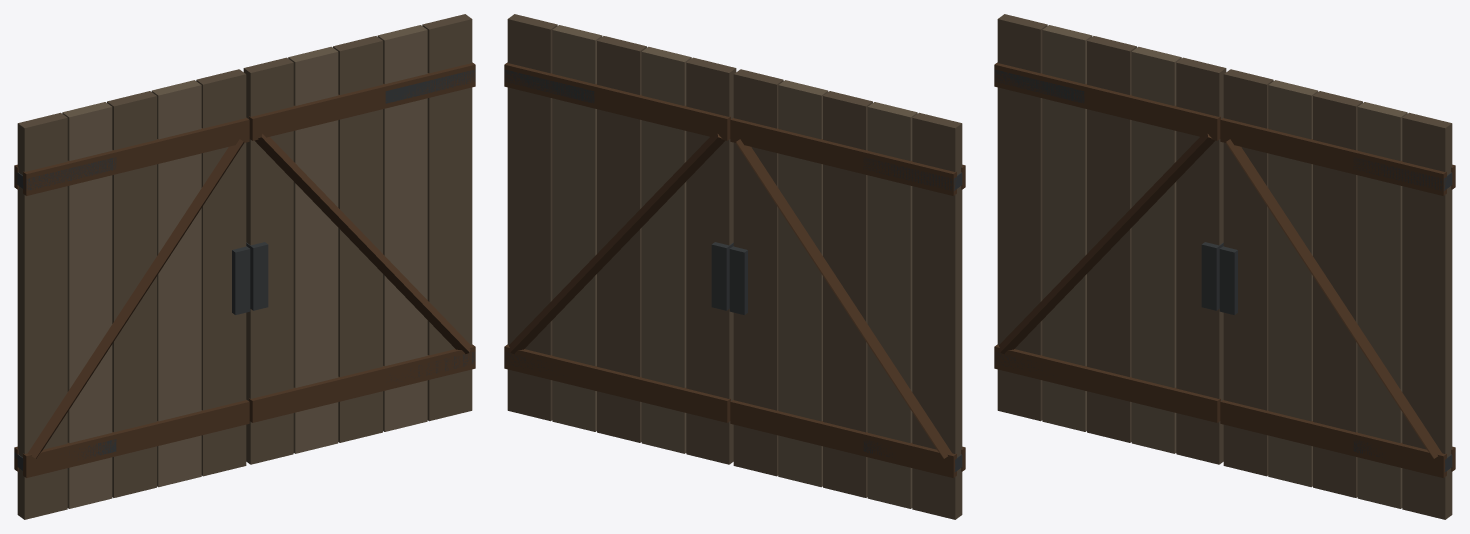
The model's file is prop_door_shed.glb.
3 renders of one model, left to right at view 1: azimuth 30°, elevation 25°; view 2: azimuth 150°, elevation 25°; view 3: azimuth 330°, elevation 25°, orthographic.
Parts seen in each view (by area): view 1: LeafL, LeafR; view 2: LeafL, LeafR; view 3: LeafR, LeafL.
Part boxes in pixels (x1,y1,x2,y2): LeafL: (14,69,250,519); LeafR: (243,14,475,464); LeafL: (729,69,965,519); LeafR: (504,14,736,464); LeafR: (1219,69,1455,519); LeafL: (994,14,1226,464).
Bounding box in the file's own units: 3 × 2.5 × 0.18.
